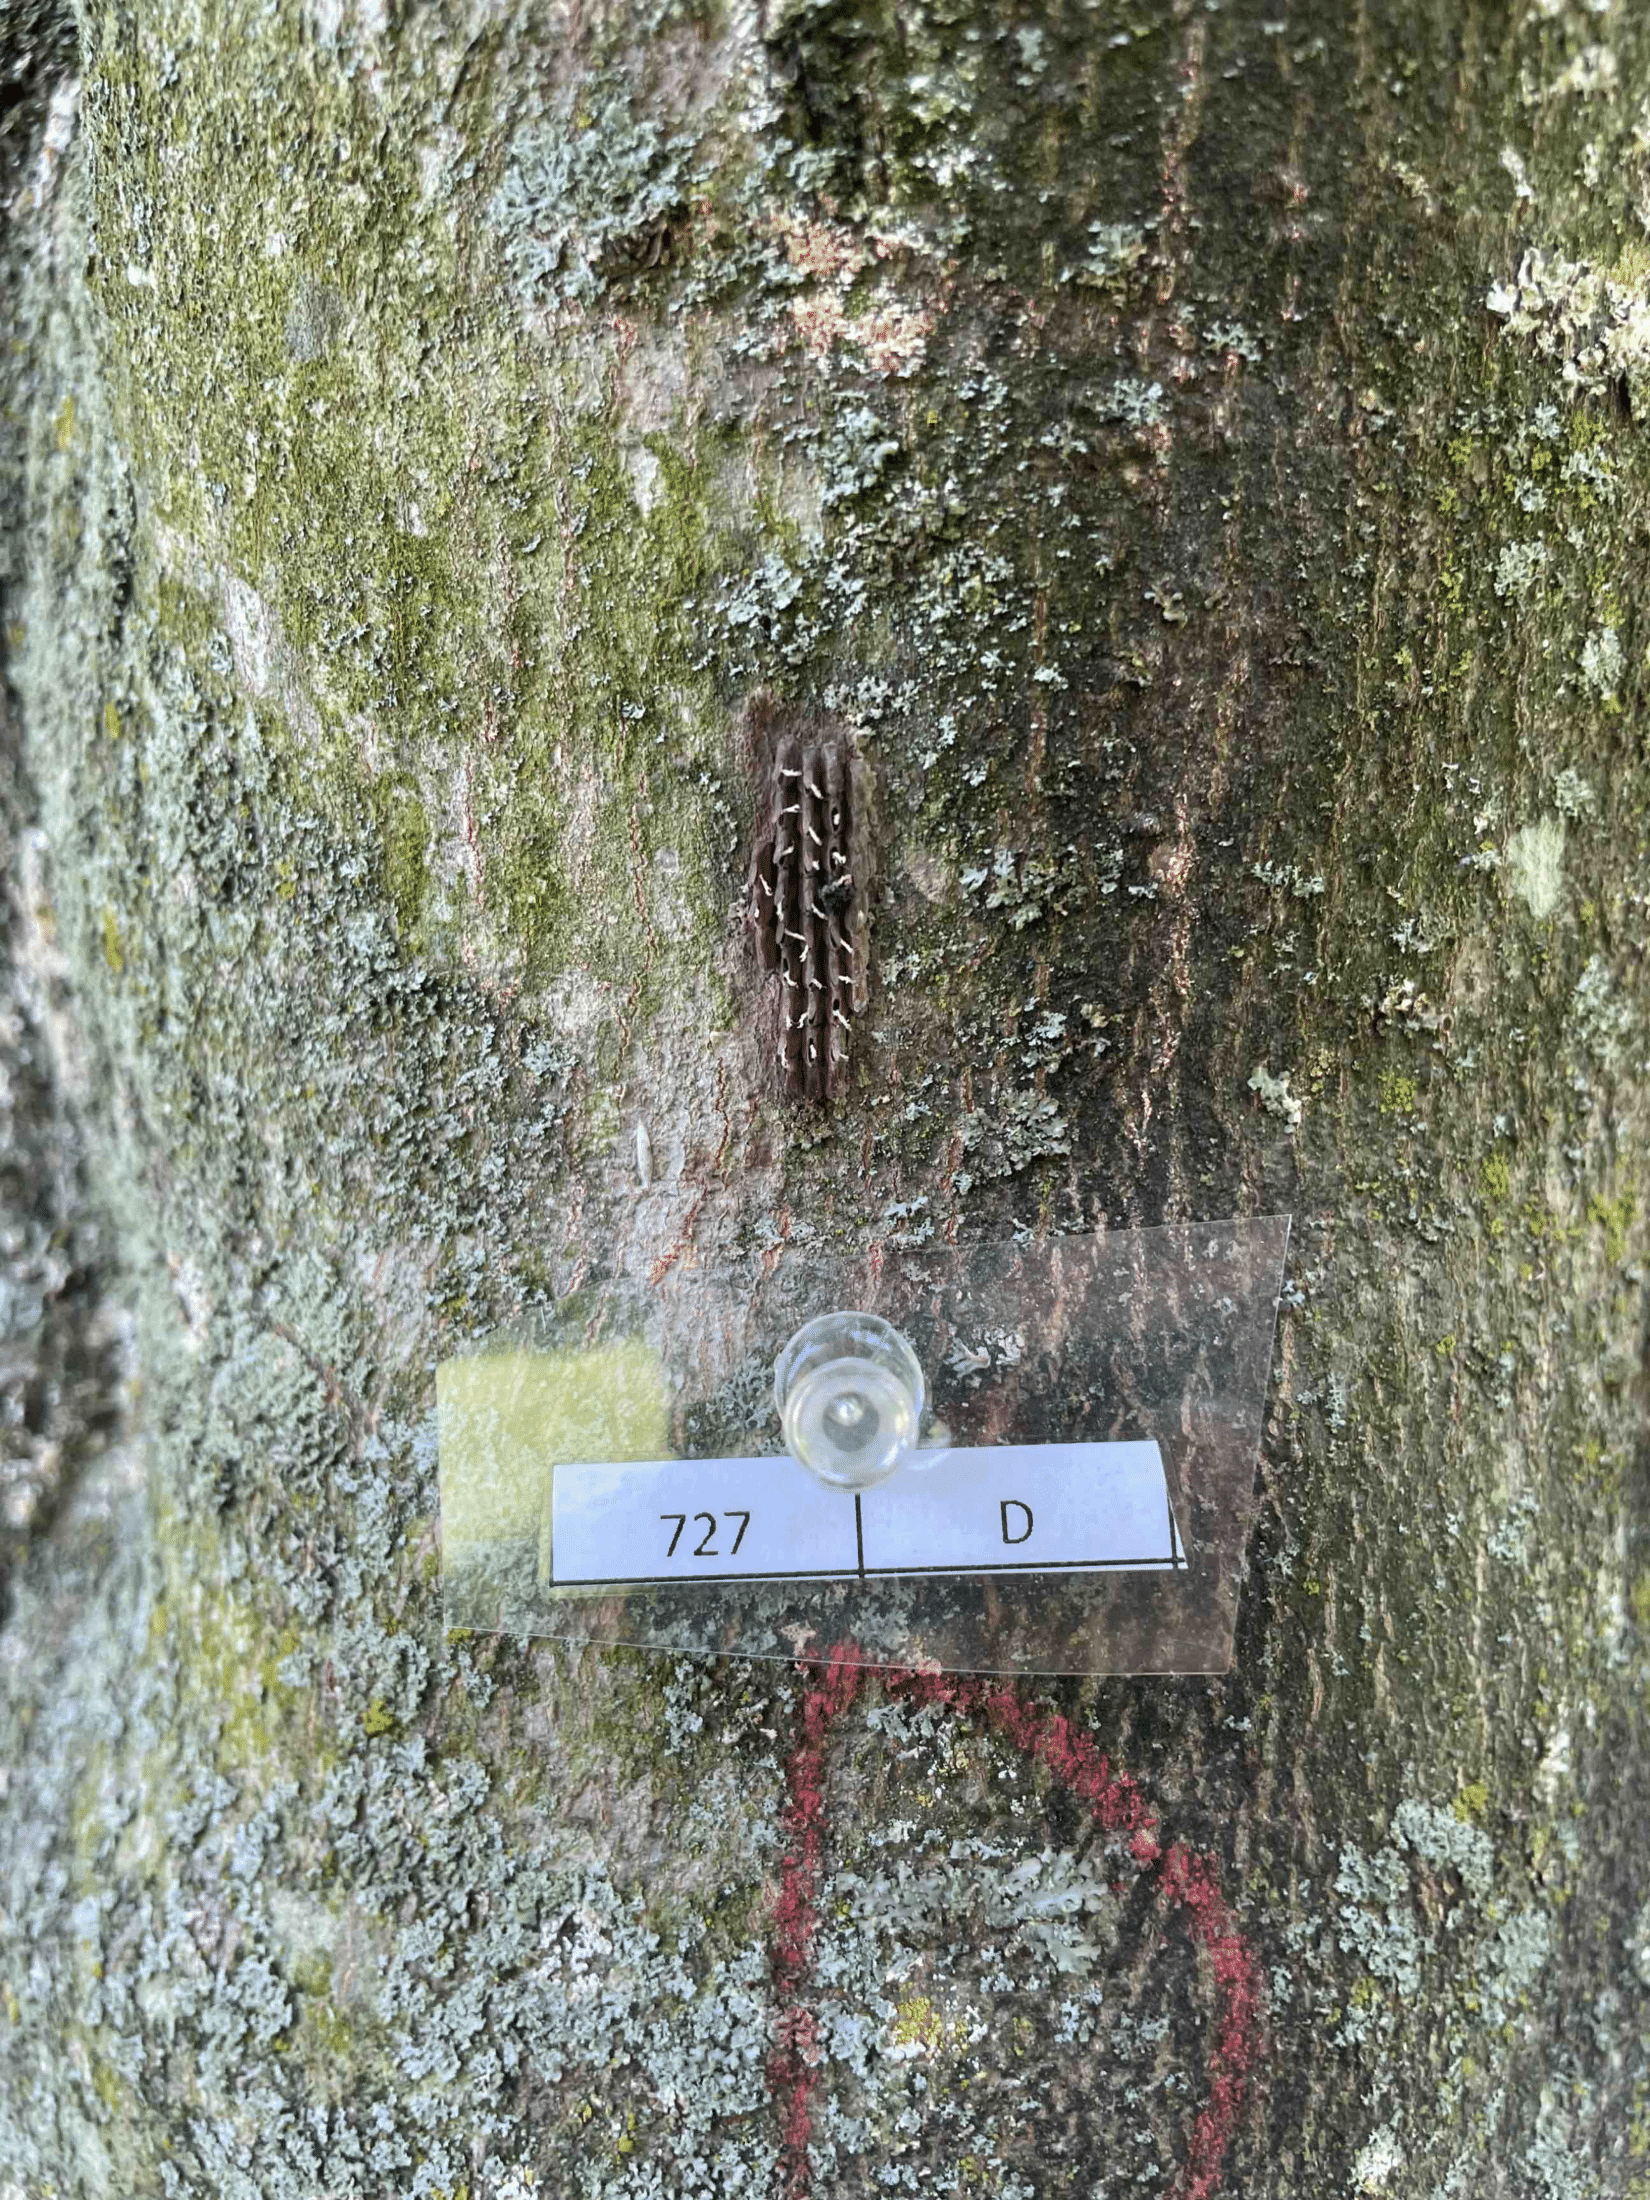egg masses: (737, 724, 887, 1110)
